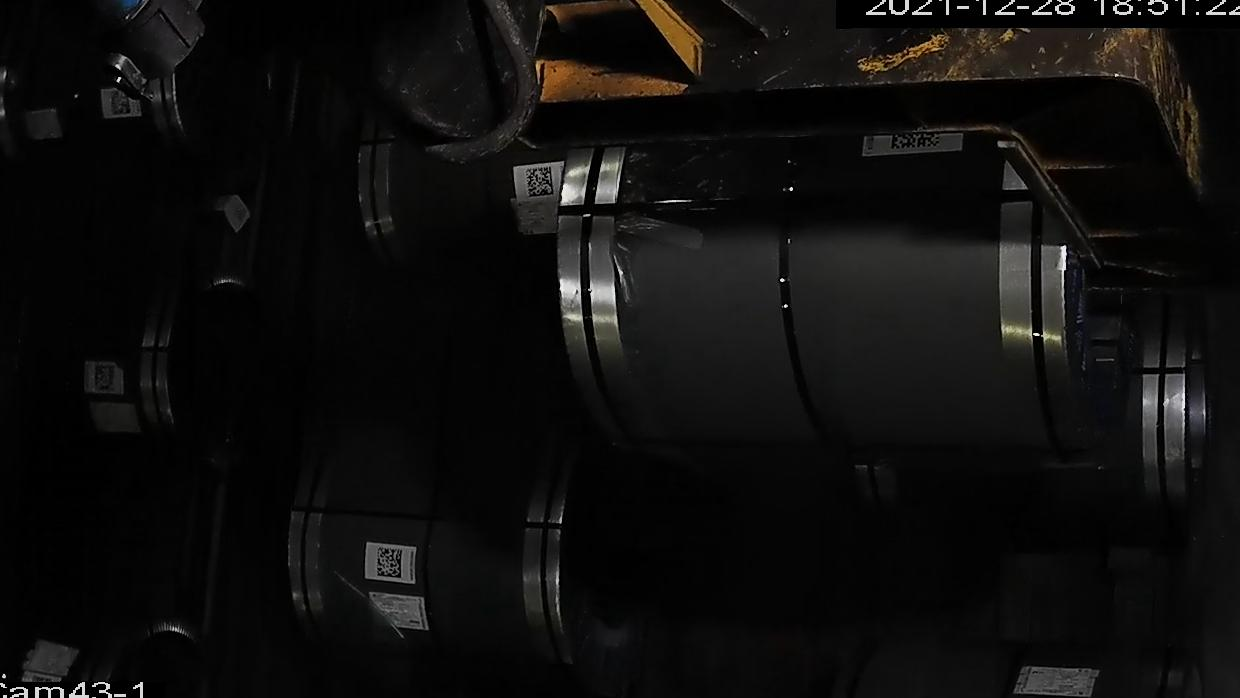data matrix: (524, 164, 558, 200), (375, 546, 406, 581), (92, 363, 120, 395)
